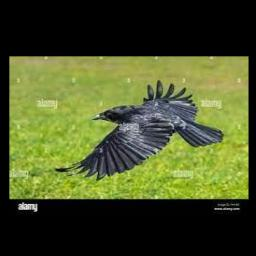Crow: (53, 81, 223, 181)
